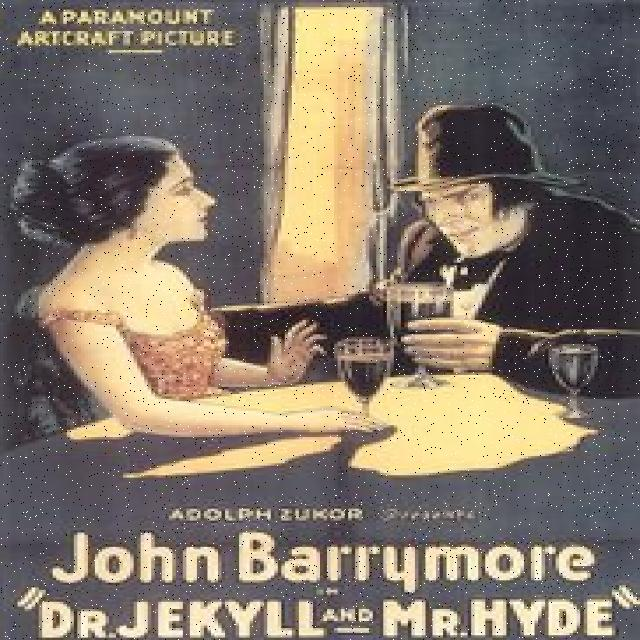movie-judul: (32, 530, 626, 640)
picture: (17, 105, 616, 426)
